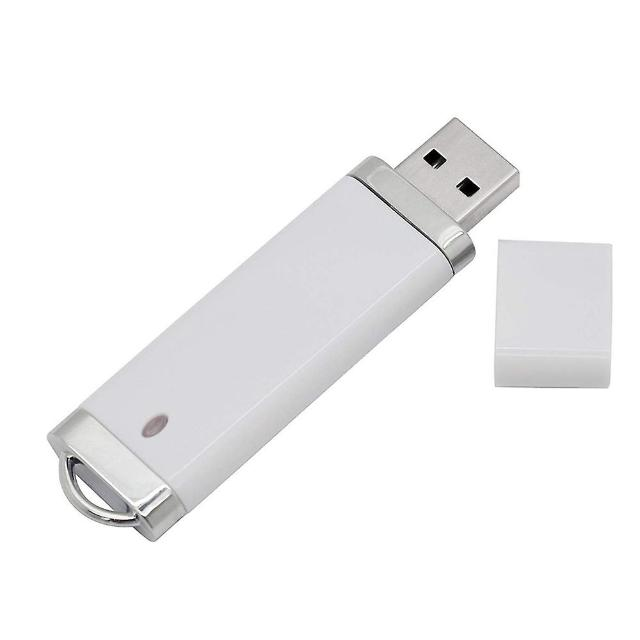USB-Flash-Drive: (45, 117, 521, 544)
